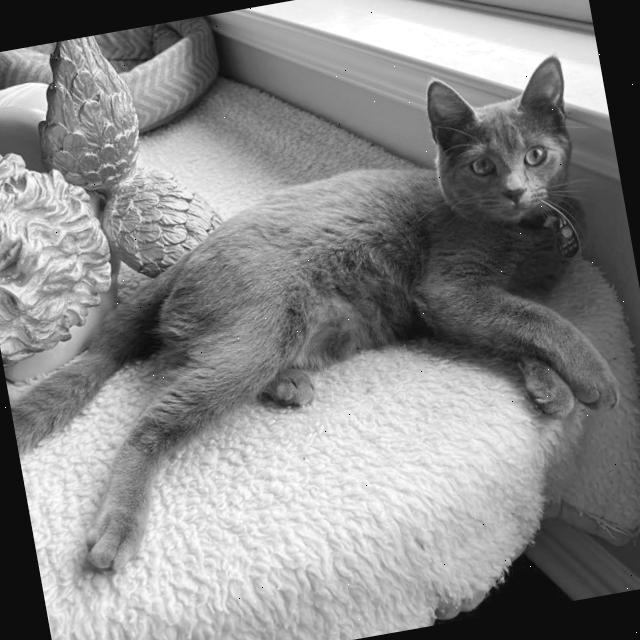russian_blue_cat: (410, 42, 604, 247)
